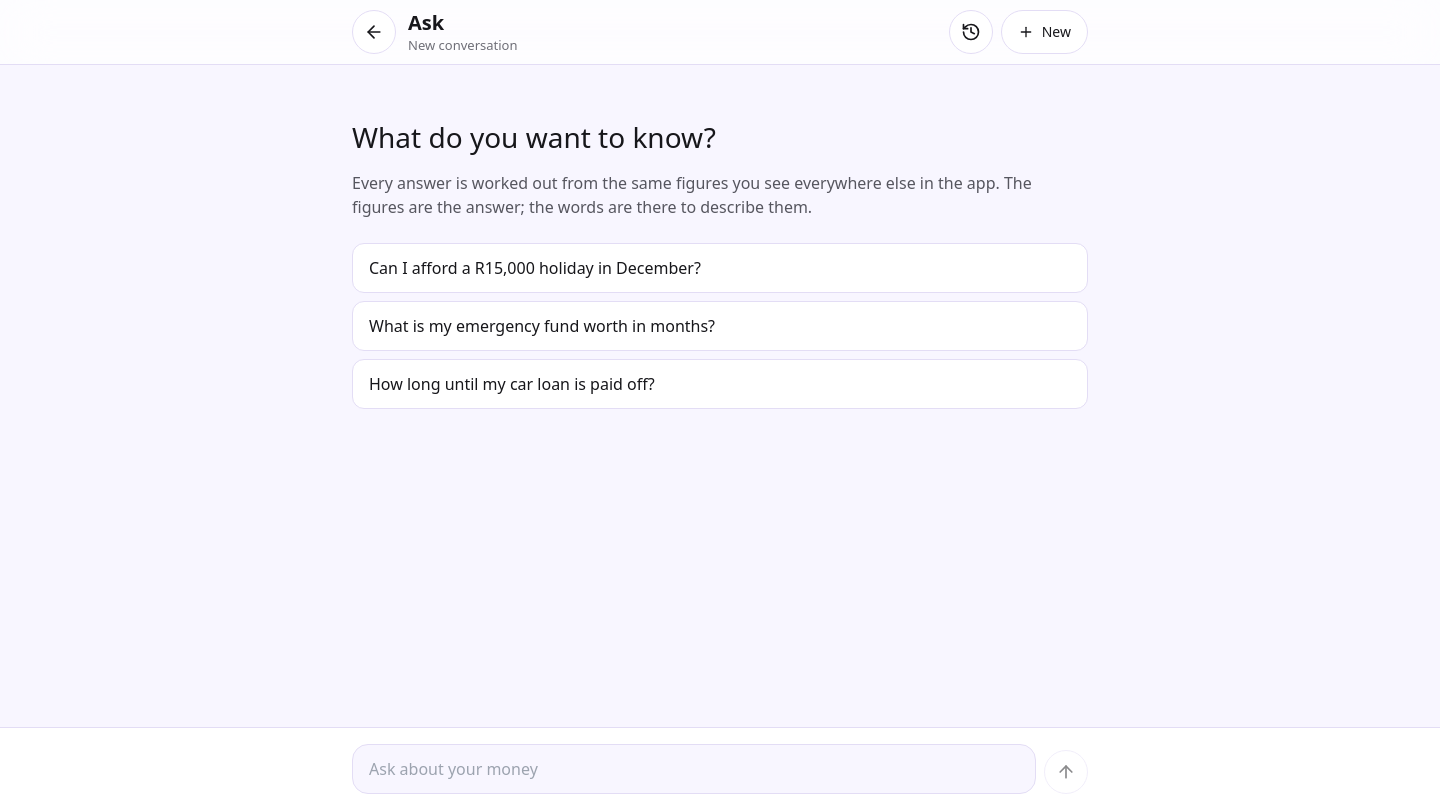
Test: ChatView › still renders the figures when no narration is available
The image size is (1440, 810).
Type "What is my emergency fund worth in months?" into the text box named "Question". click: (694, 769)
box: [352,744,1036,794]
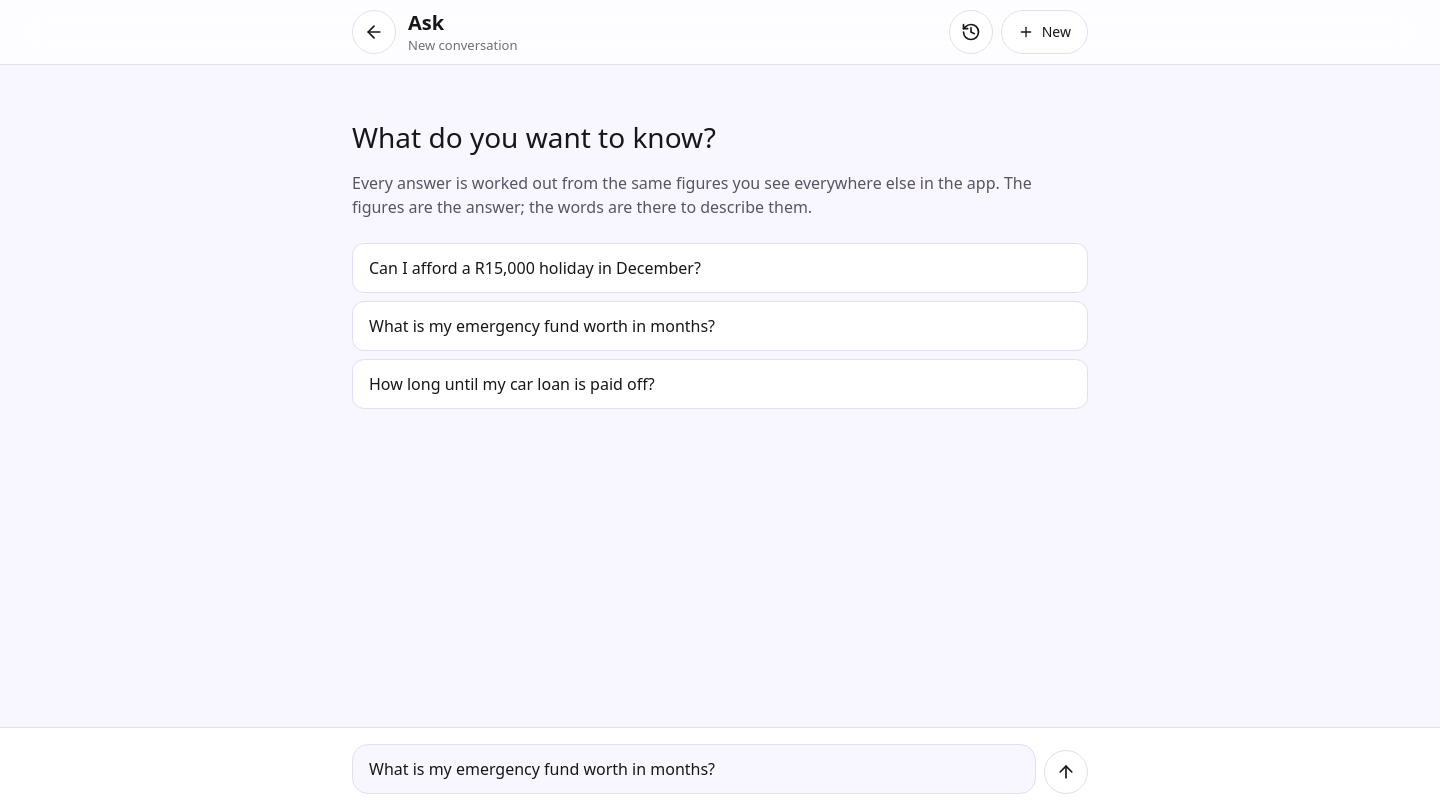
Click the button named "Send". click: (1066, 772)
box: [1044,750,1088,794]
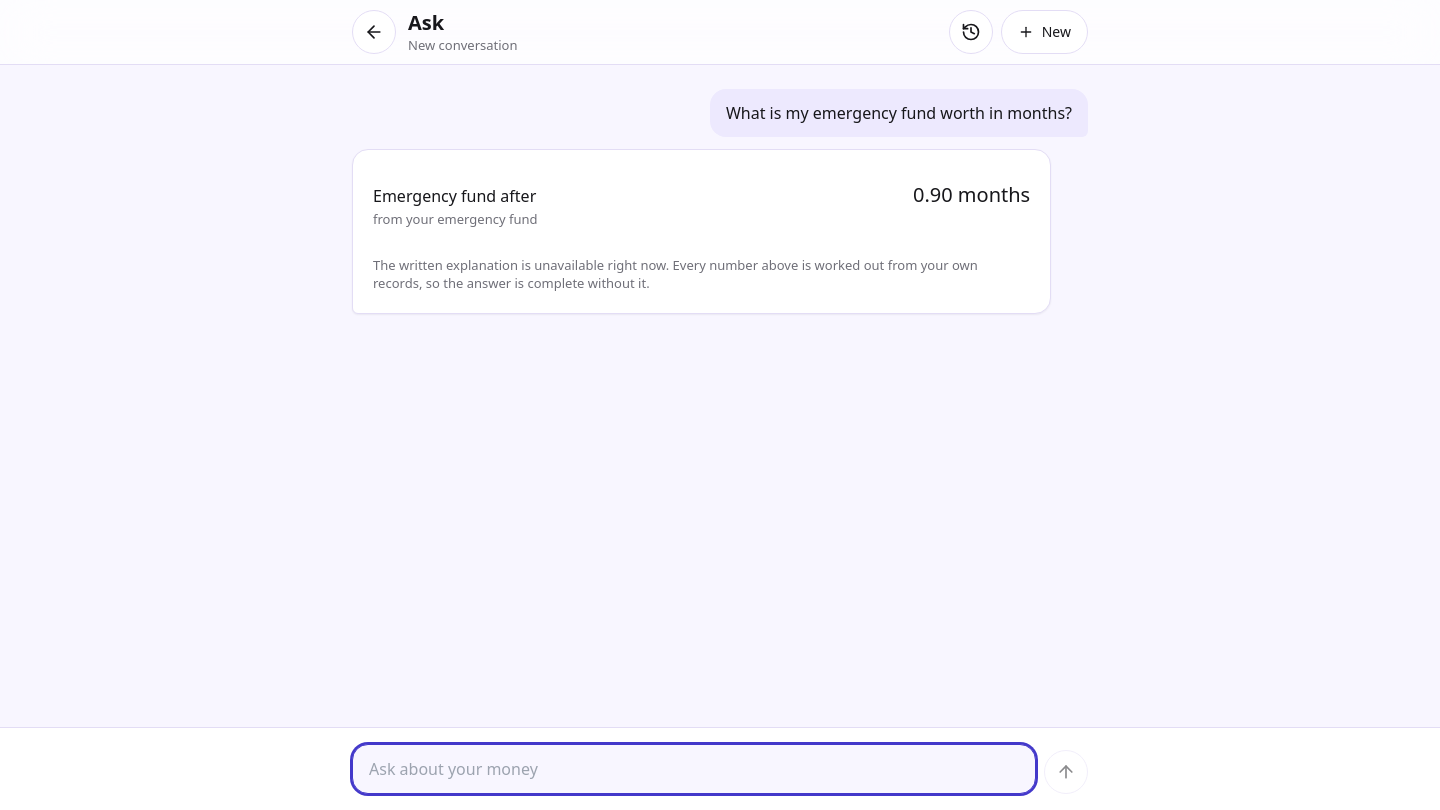
Expected: the text "Emergency fund after" is shown, [373,184,538,208]
Expected: the text "written explanation is unavailable" is shown, [373,256,978,292]
